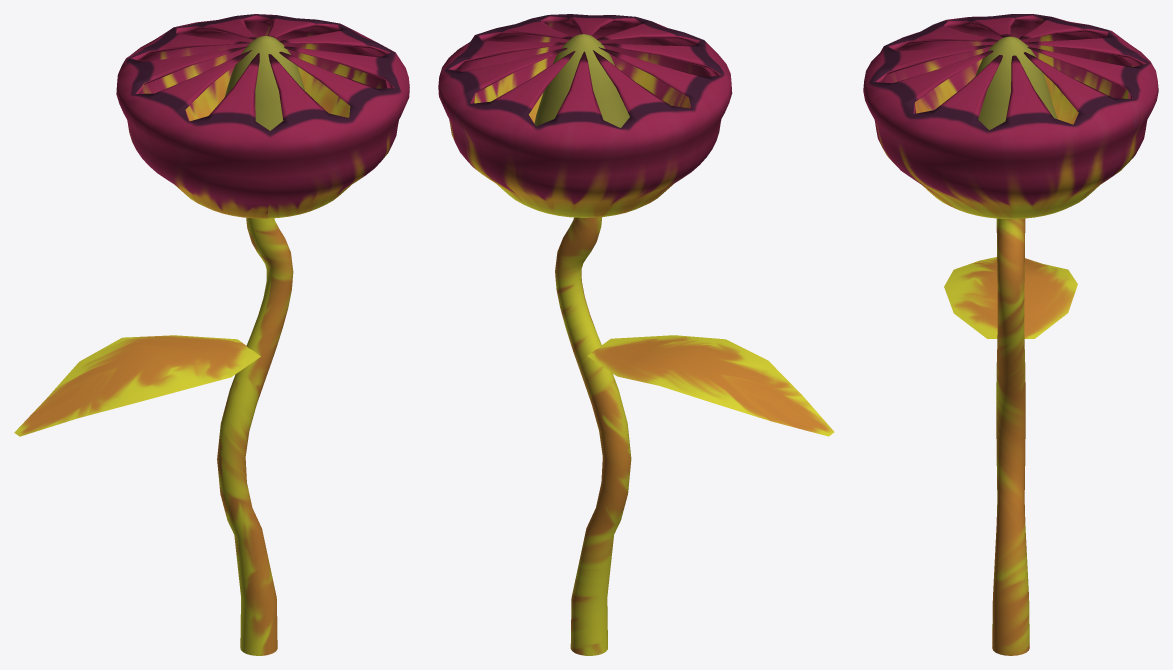
The model's file is red and yellow flower.fbx.
3 views of the same model, side by side, from view 1: azimuth 30°, elevation 25°; view 2: azimuth 150°, elevation 25°; view 3: azimuth 270°, elevation 25° (orthographic).
Visible parts, largest first — view 1: pSphere3; view 2: pSphere3; view 3: pSphere3.
Part boxes in pixels (<box>): pSphere3: <box>14,14,409,655</box>; pSphere3: <box>438,14,834,655</box>; pSphere3: <box>863,14,1158,655</box>.
Size of the model in its own units: 324 by 505 by 221.
